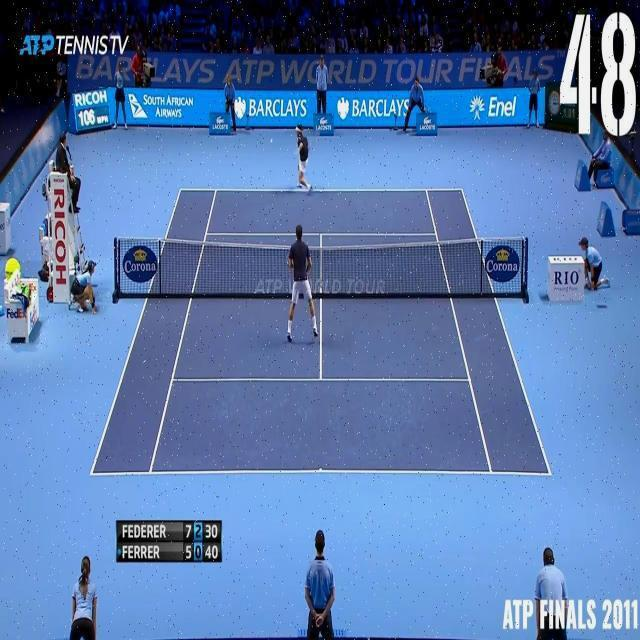left side: (91, 190, 216, 475), (426, 190, 550, 474)
player: (284, 223, 320, 344), (292, 124, 312, 192)
